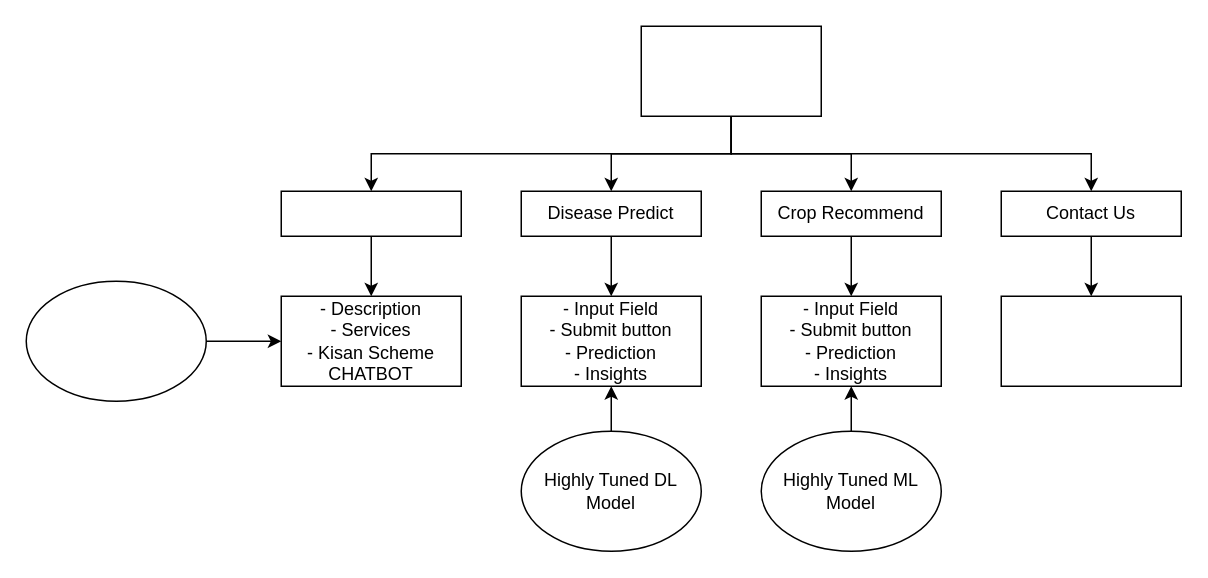
Image size: 1208x578. Some labels were removed from this diagram. The shapes that lost their labels are listed below. From the top down, each one's centre as x and y in pixels, then its label:
the point at 730,70: UdhyogAI
the point at 370,213: Home
the point at 115,340: Fine Tuned LLM (CHATGPT,GEMINI)
the point at 1090,340: - Map - Contact form - title
